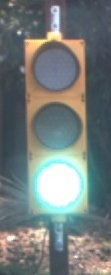Green: (13, 18, 97, 252)
